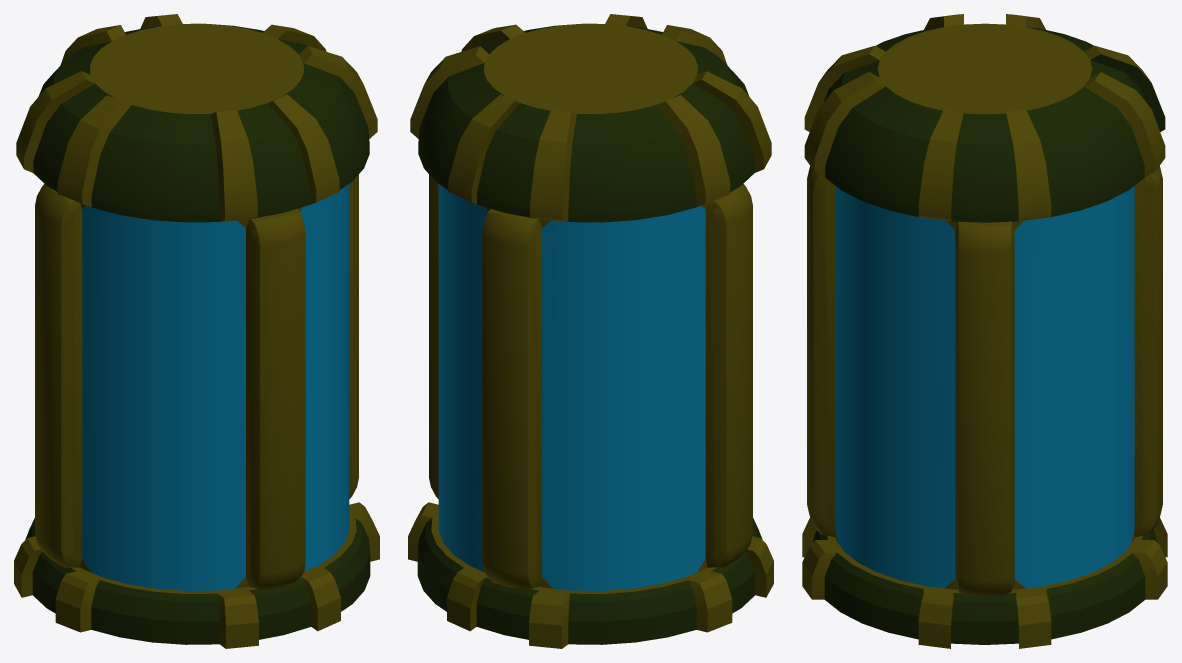
File: tank.fbx
3 renders of one model, left to right at view 1: azimuth 30°, elevation 25°; view 2: azimuth 150°, elevation 25°; view 3: azimuth 270°, elevation 25°, orthographic.
Parts seen in each view (by area): view 1: Circle; view 2: Circle; view 3: Circle.
Boxes of the visible parts, box(x1,y1,x2,y2) form: Circle: box(14, 14, 379, 648); Circle: box(408, 14, 773, 648); Circle: box(802, 14, 1167, 648).
Bounding box in the file's own units: 290 × 445 × 290.
